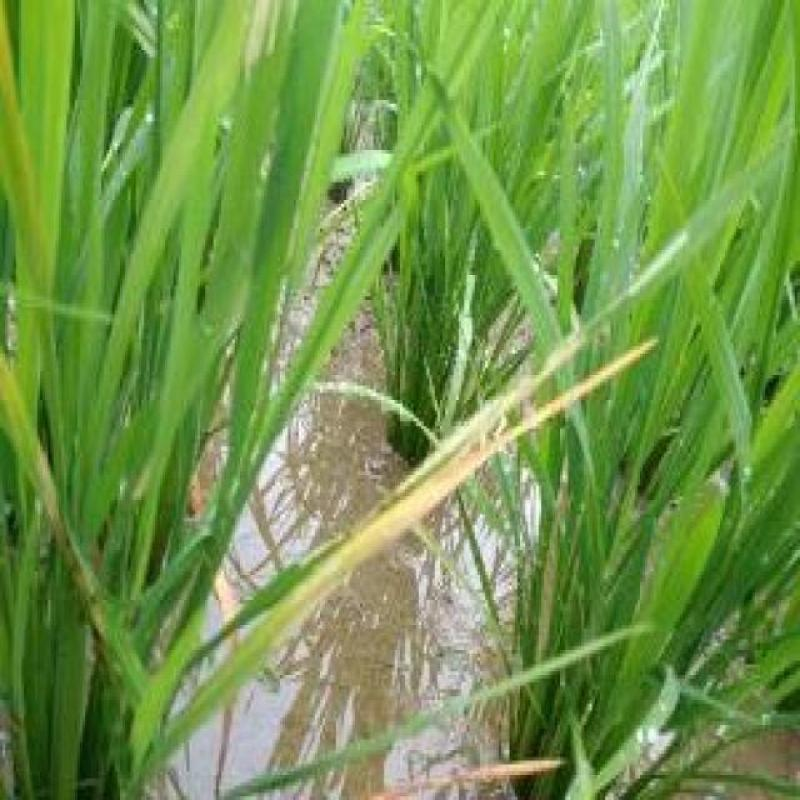Rice Tungro: (384, 446, 489, 528), (395, 752, 571, 798)
